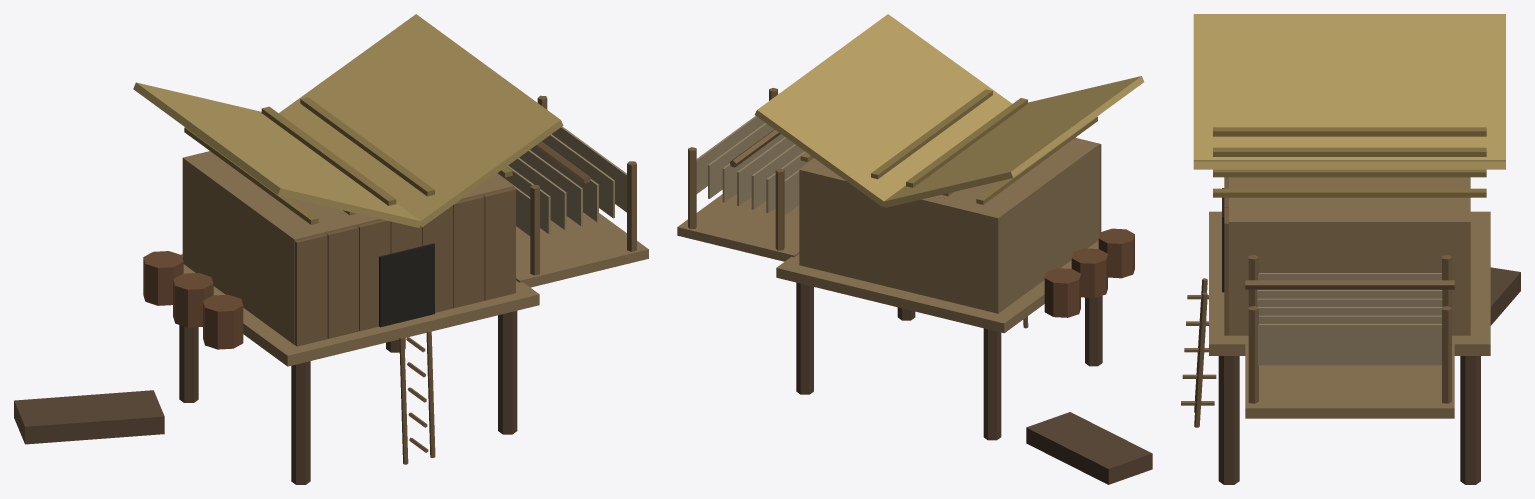
The model's file is S_NetHut.glb.
The picture shows the model from 3 angles, left to right: view 1: azimuth 30°, elevation 25°; view 2: azimuth 150°, elevation 25°; view 3: azimuth 270°, elevation 25°; orthographic projection. The views are drawn at different scales.
Parts seen in each view (by area): view 1: S_NetHut; view 2: S_NetHut; view 3: S_NetHut.
Boxes of the visible parts, x1=… form: S_NetHut: x1=14, y1=14, x2=648, y2=484; S_NetHut: x1=677, y1=14, x2=1152, y2=484; S_NetHut: x1=1181, y1=14, x2=1520, y2=484.
Size of the model in its own units: 8.14 by 4.65 by 4.22.
